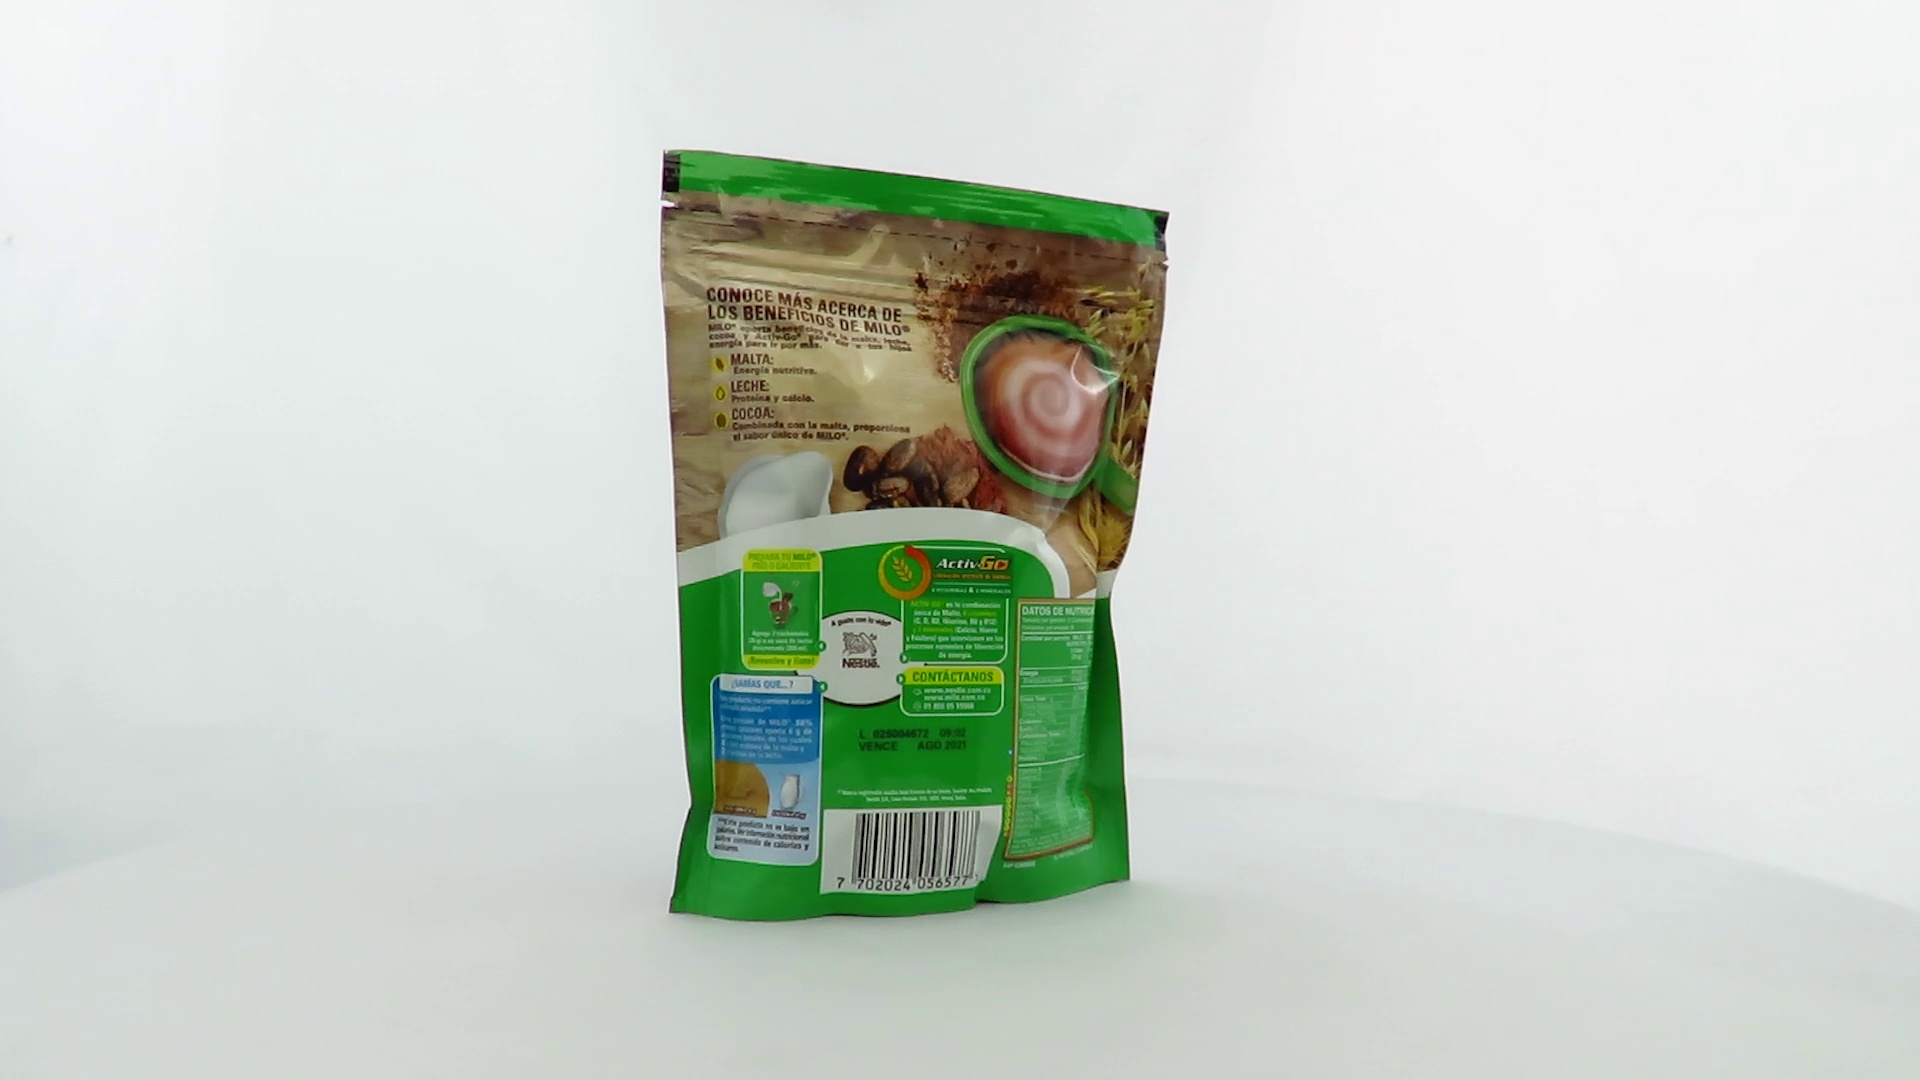COL0170205DYP20000: (655, 144, 1176, 928)
